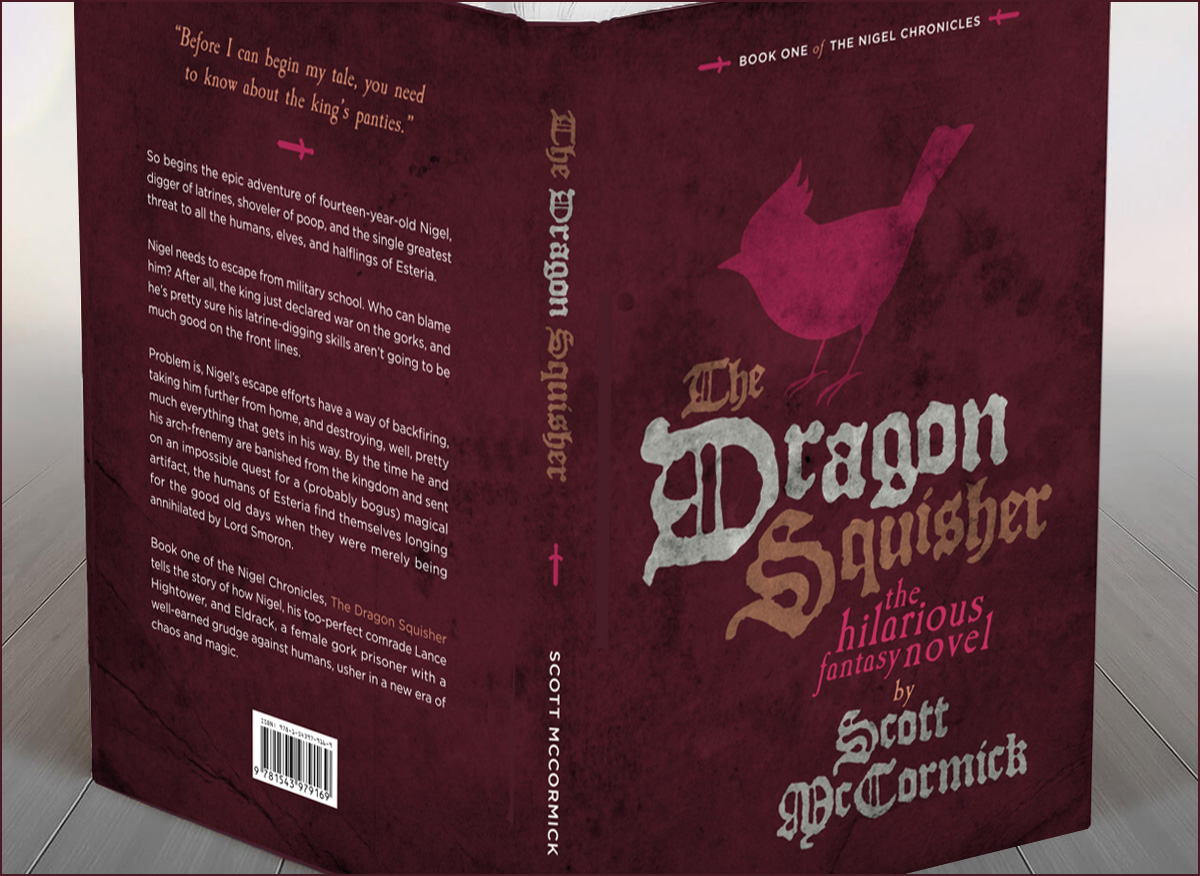buku: (51, 5, 1143, 870)
